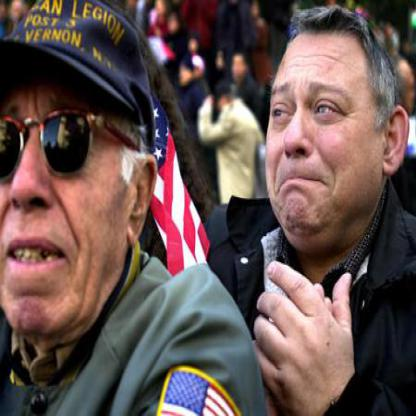face: (1, 1, 134, 340), (259, 11, 388, 247)
